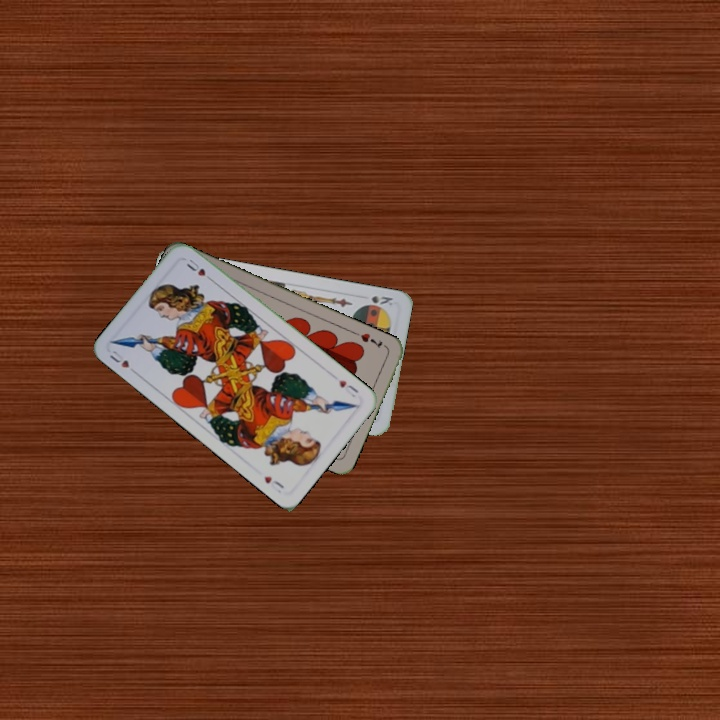H7: (356, 329, 385, 351)
HU: (105, 346, 140, 377), (335, 376, 361, 400)
SK: (367, 291, 395, 308)
